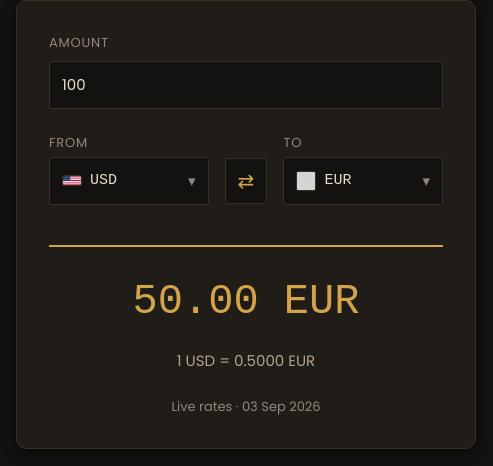
Test case: CurrencyConverter › swaps the two currencies and inverts the result
The width and height of the screenshot is (493, 466).
Expected: the text "Live rates · 03 Sep 2026" is shown, 171,396 -> 321,416
Click the button named "swap currencies" at (246, 181), box 225,158 -> 267,204
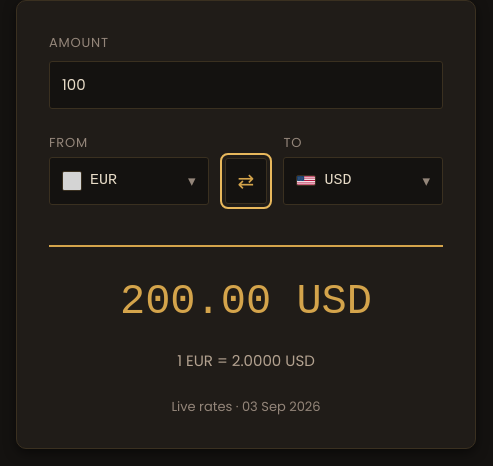
Result: the text "200.00 USD" is shown at 49,245 -> 443,334
Result: the text "1 EUR = 2.0000 USD" is shown at 177,350 -> 315,371
